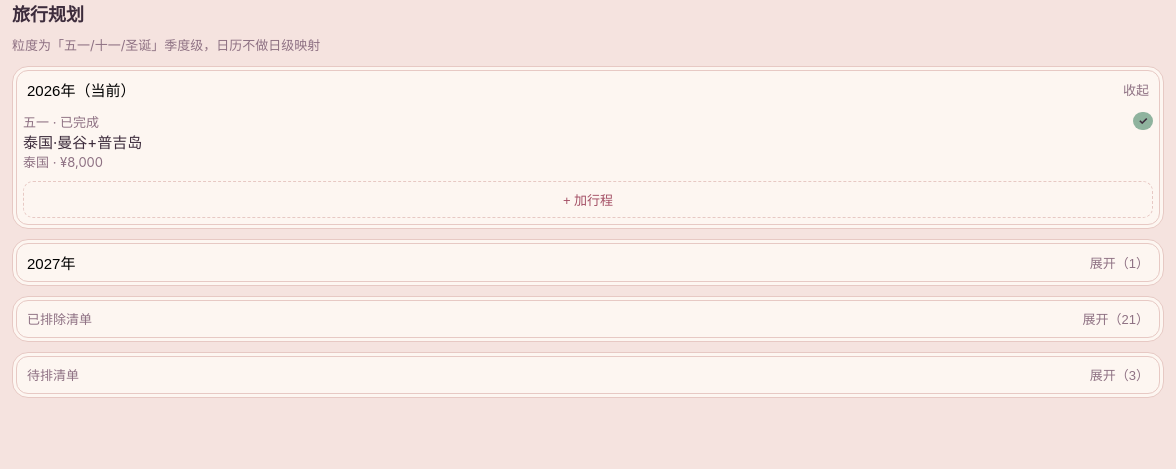
Test case: TravelPlanView › 已排除清单折叠展开
Expected: the text "泰国·曼谷+普吉岛" is shown, left=23, top=132, right=142, bottom=152
Expected: the text "菲律宾" is not shown
Click the button "已排除清单 展开（21）" at (60, 320), box left=13, top=296, right=1163, bottom=340
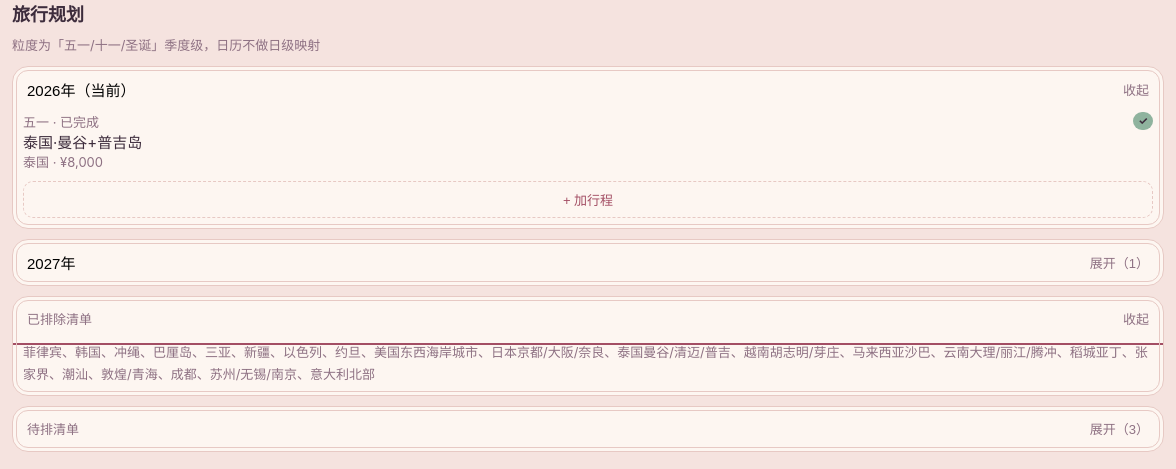
Result: the text "菲律宾" is shown at left=23, top=344, right=1148, bottom=382
